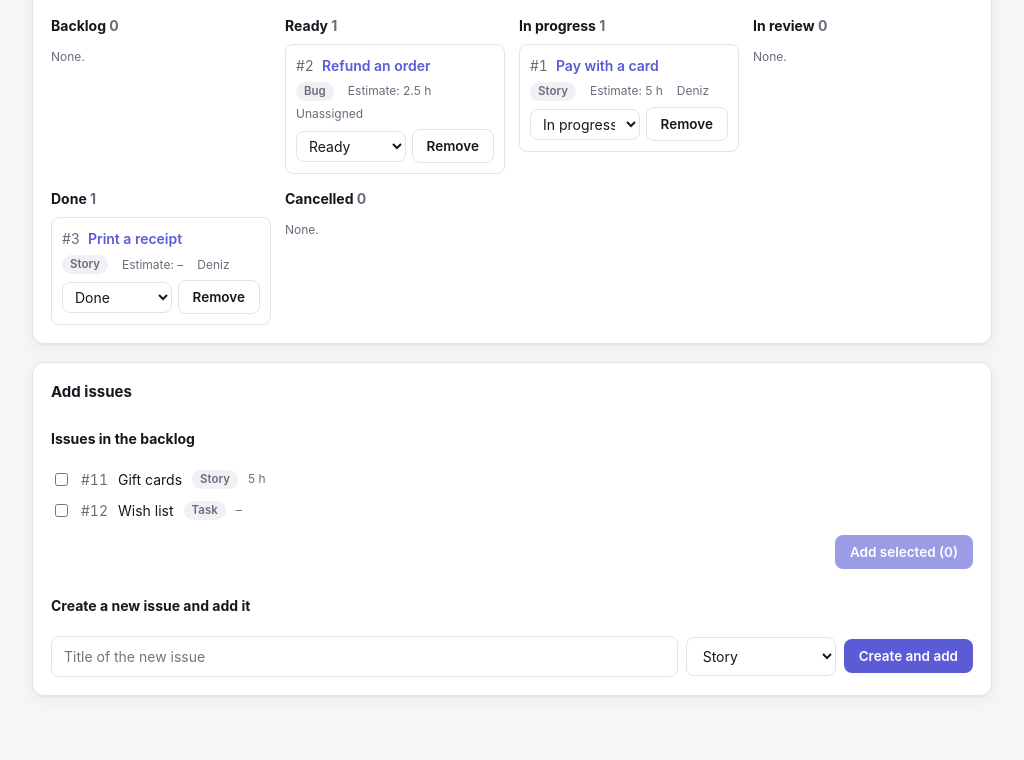
it: the sprint page: adding issues from the backlog › keeps the selection and shows the refusal when the issue is of another application
(page scrolled)
Click the checkbox named "Select #11".
click(62, 479)  # box [55,473,68,486]
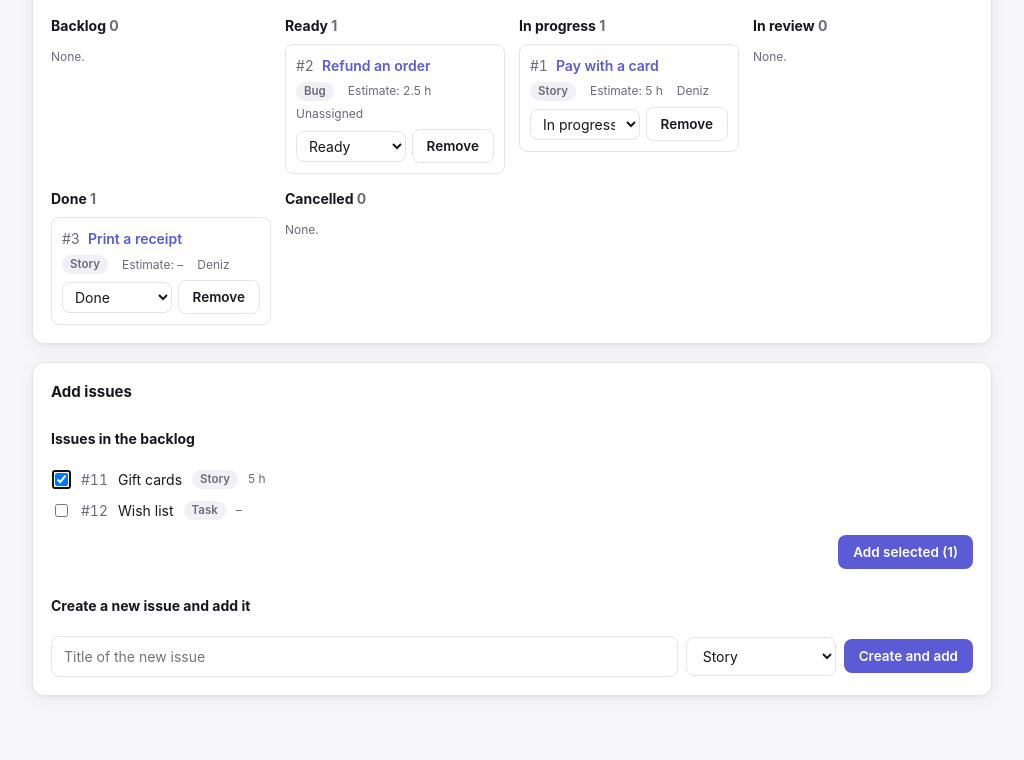
Click the button "Add selected (1)".
click(906, 552)  # box [838,535,973,569]
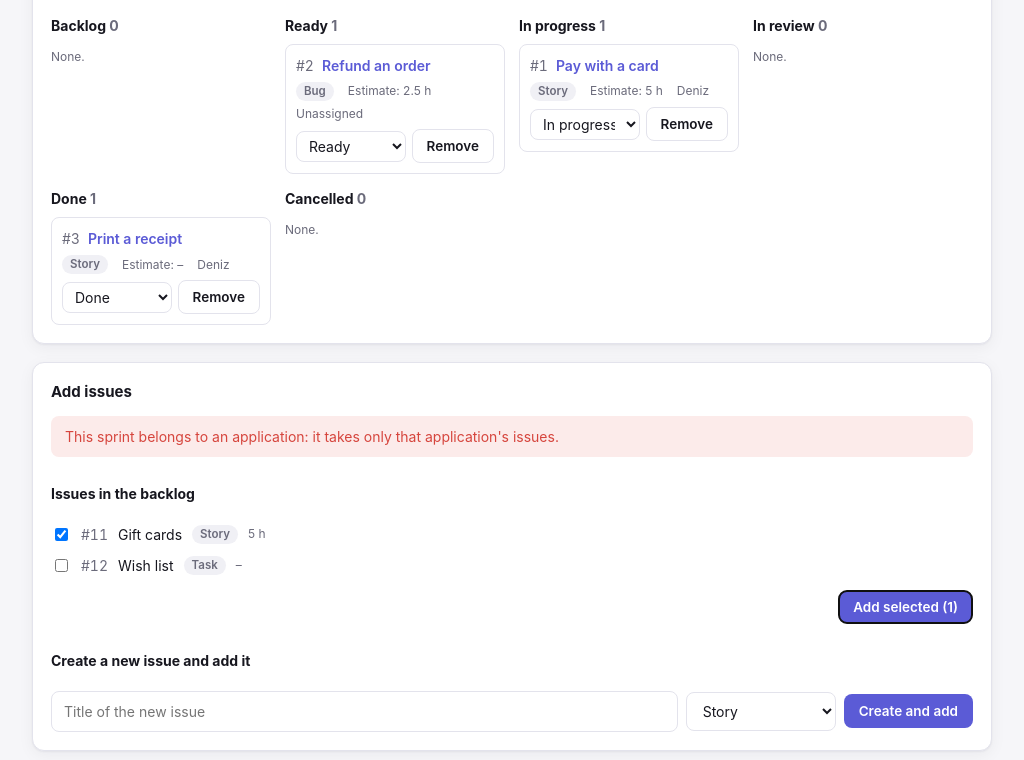
Expected: the checkbox named "Select #11" is checked, [55,528,68,541]
Expected: the text "This sprint belongs to an application: it takes only that application's issues." is shown, [51,416,973,457]
